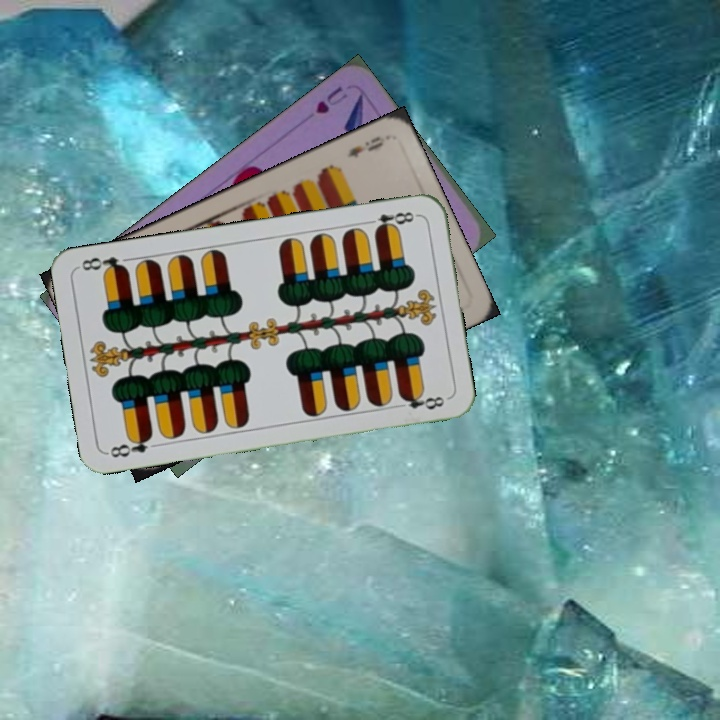E8: (362, 207, 421, 235), (104, 430, 155, 461)
E9: (344, 132, 390, 161)
HU: (311, 82, 350, 117)
